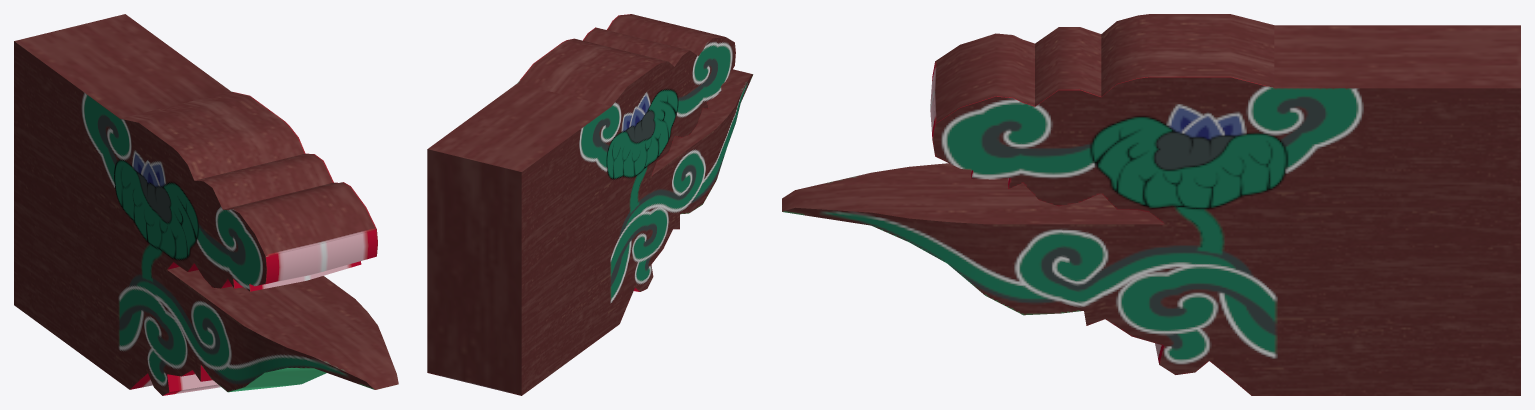
Rendered from SM_Gongpo01c.fbx.
3 views of the same model, side by side, from view 1: azimuth 30°, elevation 25°; view 2: azimuth 150°, elevation 25°; view 3: azimuth 270°, elevation 25° (orthographic). The views are drawn at different scales.
Parts seen in each view (by area): view 1: SM_Gongpo01c; view 2: SM_Gongpo01c; view 3: SM_Gongpo01c.
Part boxes in pixels (left/top/right/bottom): SM_Gongpo01c: left=14, top=14, right=398, bottom=395; SM_Gongpo01c: left=427, top=14, right=753, bottom=395; SM_Gongpo01c: left=782, top=14, right=1520, bottom=395.
Size of the model in its own units: 10 by 49.38 by 23.51.
Materials: 1 (1 with a texture image).
